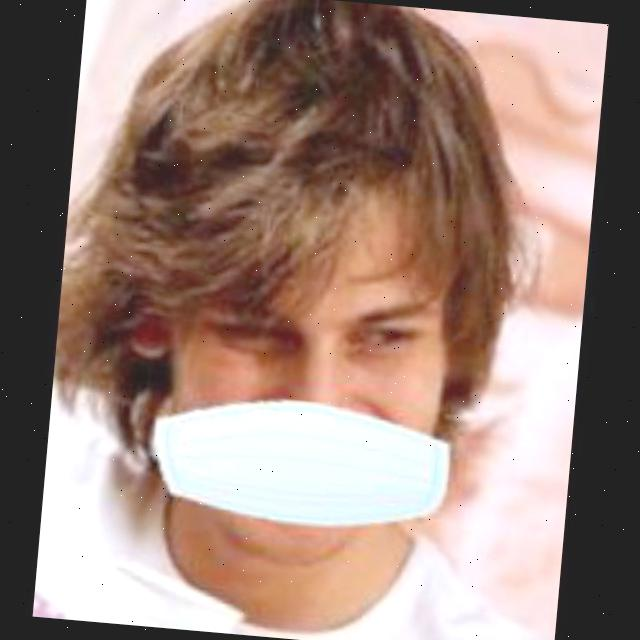suspicion: (66, 7, 549, 553)
